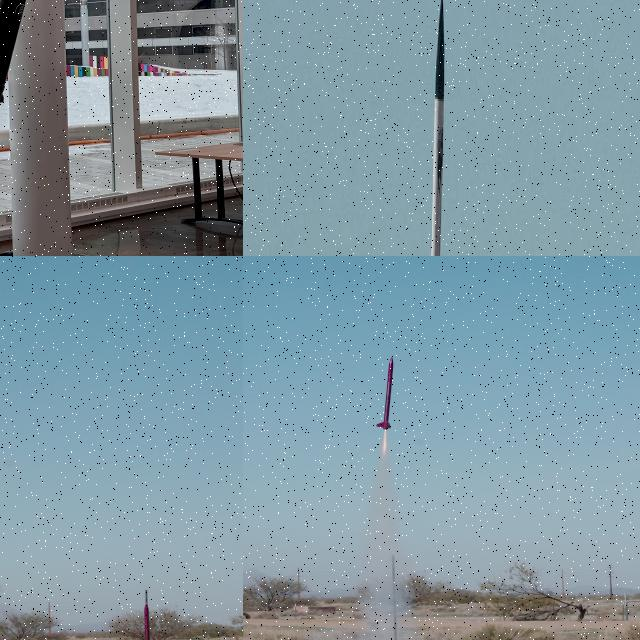Rocket: (412, 0, 447, 256), (376, 356, 393, 429), (139, 601, 157, 640)
